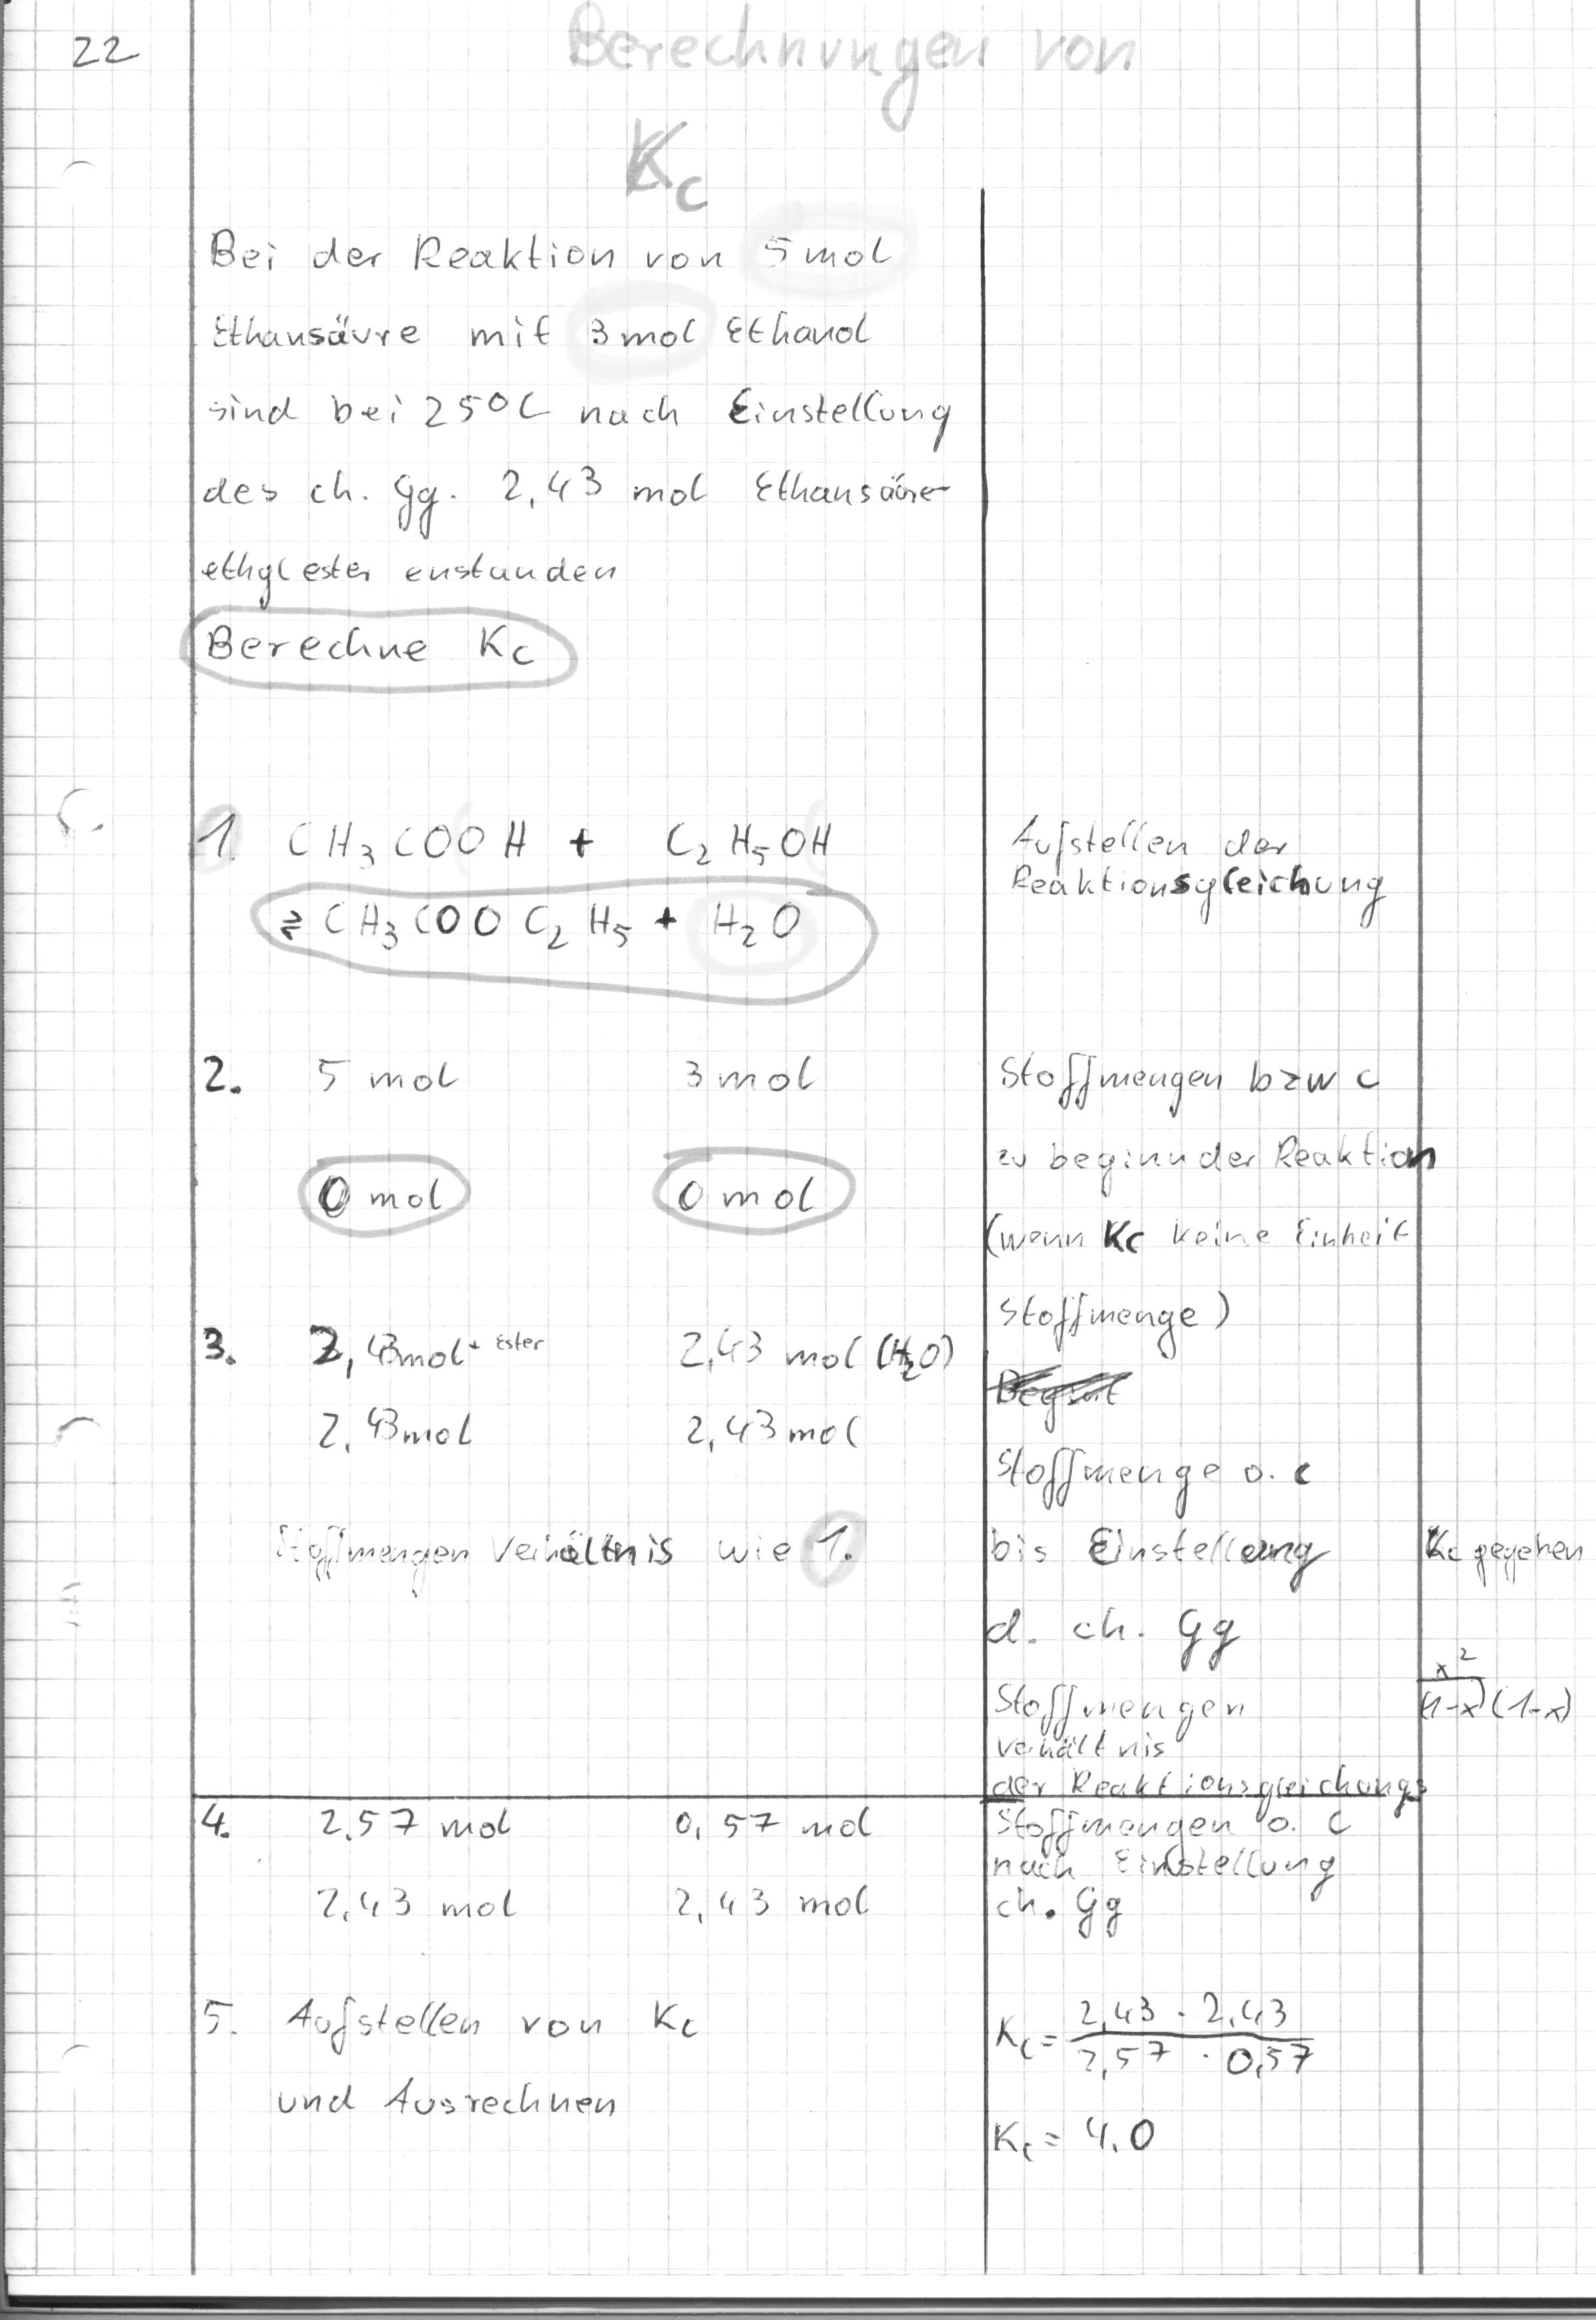word: (196, 458, 959, 543), (204, 384, 963, 457), (269, 1512, 867, 1605), (1005, 810, 1395, 936), (204, 218, 902, 283), (274, 888, 813, 966), (275, 811, 849, 874), (204, 305, 884, 358), (991, 1974, 1324, 2082), (201, 1992, 700, 2060), (991, 1128, 1445, 1203), (983, 1518, 1338, 1605), (994, 1045, 1386, 1120), (194, 549, 626, 614), (991, 1444, 1318, 1524), (270, 2068, 631, 2136), (984, 1678, 1257, 1764), (672, 1315, 961, 1394), (987, 1209, 1415, 1261), (991, 1283, 1236, 1366), (985, 1599, 1250, 1673), (200, 618, 542, 673), (299, 1315, 552, 1382), (198, 1795, 522, 1843), (308, 1400, 489, 1468), (311, 1873, 530, 1928), (670, 1158, 828, 1235), (990, 2105, 1167, 2173), (678, 1400, 871, 1457), (667, 1798, 879, 1847), (996, 1366, 1139, 1434), (672, 1878, 878, 1925), (676, 1043, 824, 1105), (317, 1165, 457, 1229), (316, 1053, 467, 1099)
